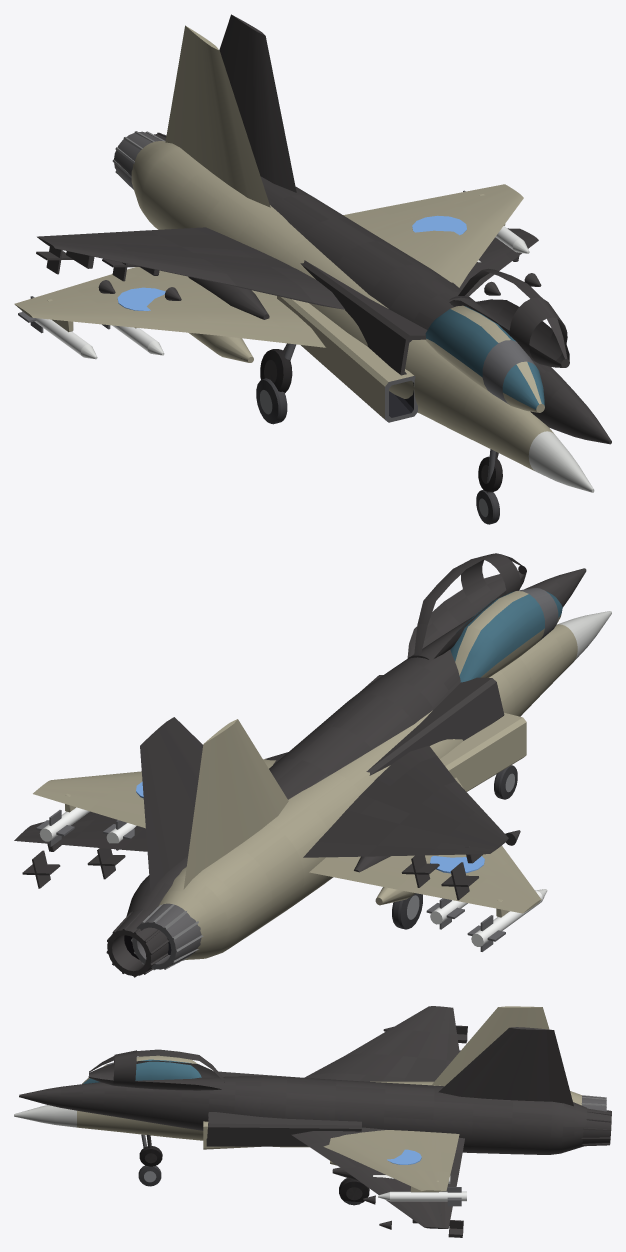
The model's file is lightFighter__tejas_mk1.glb.
3 views of the same model, one above another, from view 1: azimuth 30°, elevation 25°; view 2: azimuth 150°, elevation 25°; view 3: azimuth 270°, elevation 25° (orthographic). The views are drawn at different scales.
Visible parts, largest first — view 1: Fuselage_Mesh, Wreck; view 2: Fuselage_Mesh, Wreck; view 3: Wreck, Fuselage_Mesh.
Boxes of the visible parts, left/top/right/bottom form: Fuselage_Mesh: left=14, top=25, right=594, bottom=524; Wreck: left=36, top=14, right=611, bottom=492; Fuselage_Mesh: left=33, top=588, right=611, bottom=970; Wreck: left=14, top=553, right=586, bottom=977; Wreck: left=19, top=1006, right=611, bottom=1237; Fuselage_Mesh: left=14, top=1006, right=606, bottom=1206.
Size of what is drawn, in the model's own units: 8.48 by 4.4 by 13.34.
